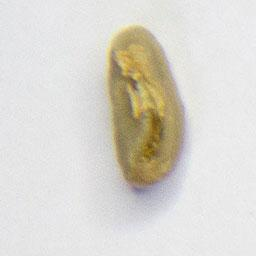defect: (104, 21, 190, 192)
